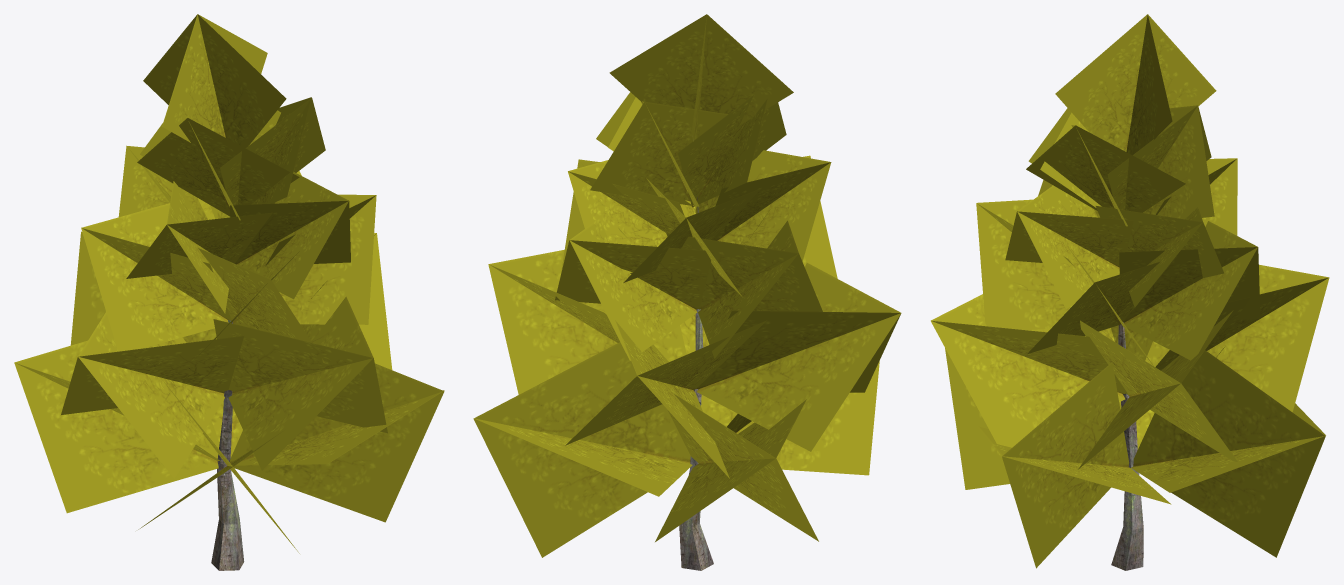
File: guanmu.fbx
The picture shows the model from 3 angles, left to right: view 1: azimuth 30°, elevation 25°; view 2: azimuth 150°, elevation 25°; view 3: azimuth 270°, elevation 25°; orthographic projection. The views are drawn at different scales.
Visible parts, largest first — view 1: guanmu; view 2: guanmu; view 3: guanmu.
Boxes of the visible parts, x1=… form: guanmu: x1=14, y1=14, x2=444, y2=570; guanmu: x1=473, y1=14, x2=901, y2=570; guanmu: x1=931, y1=14, x2=1329, y2=570.
Size of the model in its own units: 7.55 by 11.26 by 7.55.
Materials: 2 (2 with a texture image).
